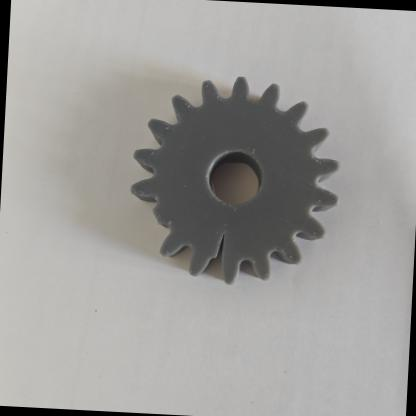defect: (186, 218, 265, 292), (118, 188, 184, 252)
gear: (110, 52, 352, 294)
